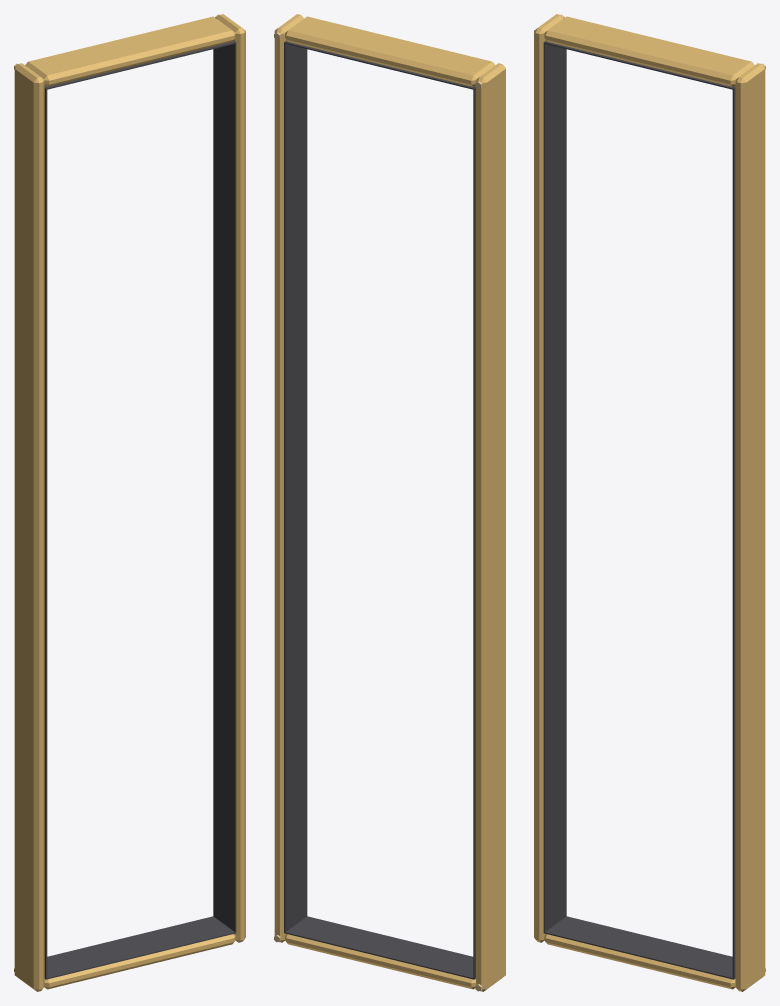
Rendered from Bezel_1x4.fbx.
The picture shows the model from 3 angles, left to right: view 1: azimuth 30°, elevation 25°; view 2: azimuth 150°, elevation 25°; view 3: azimuth 330°, elevation 25°; orthographic projection.
Visible parts, largest first — view 1: Bezel_1x4; view 2: Bezel_1x4; view 3: Bezel_1x4.
Part boxes in pixels (x1,y1,x2,y2): Bezel_1x4: (14,14,245,991); Bezel_1x4: (274,14,505,991); Bezel_1x4: (534,14,765,991).
Size of the model in its own units: 1.06 by 4.36 by 0.211.
